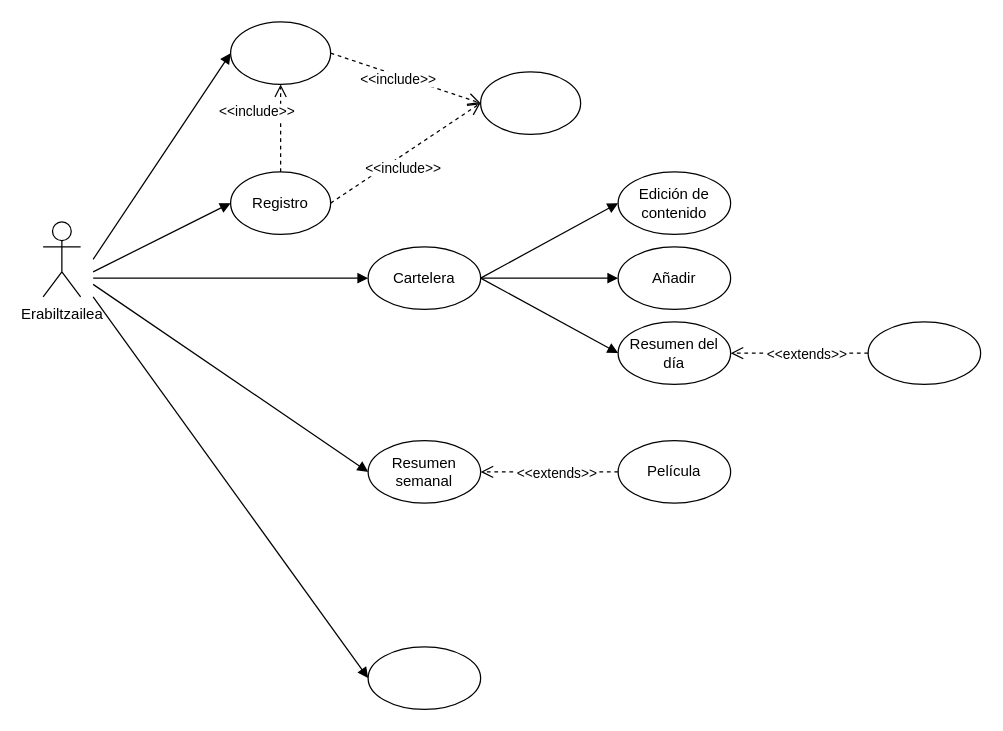
This 1003x731 diagram has some shape labels left out. Here are the shapes that lost their labels. From the top down, the centre of each, then its label:
At (280,52): "Login".
At (530,102): "Comprobar existe".
At (924,352): "Contenido".
At (424,677): "Confirmación".
